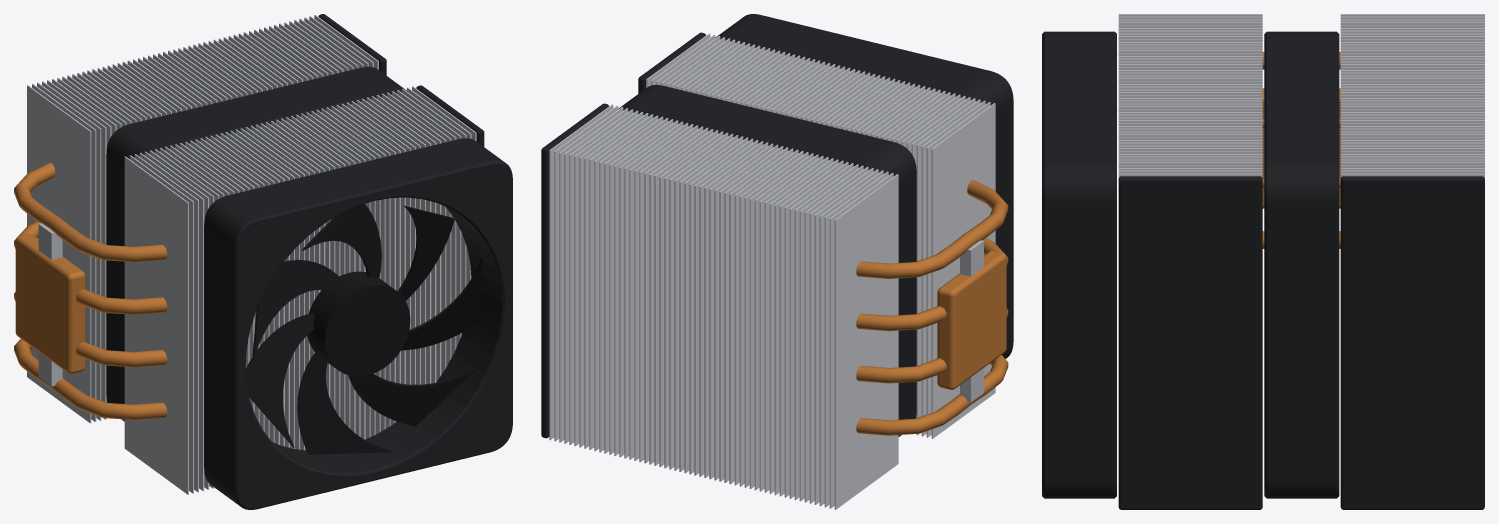
The model's file is cooler-dual-tower-v1.glb.
3 renders of one model, left to right at view 1: azimuth 30°, elevation 25°; view 2: azimuth 150°, elevation 25°; view 3: azimuth 270°, elevation 25°, orthographic. The views are drawn at different scales.
Visible parts, largest first — view 1: fan_1__mesh, fin_stack_1__mesh, fin_stack_0__mesh, fan_0__mesh, heatpipes__mesh, base__mesh, top_cover_1__mesh, top_cover_0__mesh; view 2: fin_stack_0__mesh, fin_stack_1__mesh, fan_0__mesh, fan_1__mesh, heatpipes__mesh, base__mesh, top_cover_0__mesh, top_cover_1__mesh; view 3: top_cover_0__mesh, top_cover_1__mesh, fan_0__mesh, fan_1__mesh, fin_stack_0__mesh, fin_stack_1__mesh, base__mesh.
Part boxes in pixels (x1=…): fan_1__mesh: x1=204, y1=138, x2=512, y2=509; fin_stack_1__mesh: x1=124, y1=86, x2=476, y2=494; fin_stack_0__mesh: x1=27, y1=15, x2=378, y2=423; fan_0__mesh: x1=106, y1=66, x2=406, y2=421; heatpipes__mesh: x1=14, y1=162, x2=167, y2=419; base__mesh: x1=15, y1=223, x2=85, y2=386; top_cover_1__mesh: x1=416, y1=85, x2=484, y2=146; top_cover_0__mesh: x1=318, y1=14, x2=386, y2=75; fin_stack_0__mesh: x1=549, y1=104, x2=898, y2=509; fin_stack_1__mesh: x1=646, y1=33, x2=995, y2=438; fan_0__mesh: x1=618, y1=85, x2=916, y2=436; fan_1__mesh: x1=715, y1=14, x2=1013, y2=358; heatpipes__mesh: x1=856, y1=180, x2=1008, y2=435; base__mesh: x1=937, y1=240, x2=1006, y2=402; top_cover_0__mesh: x1=541, y1=103, x2=608, y2=438; top_cover_1__mesh: x1=638, y1=32, x2=705, y2=93; top_cover_0__mesh: x1=1340, y1=176, x2=1484, y2=509; top_cover_1__mesh: x1=1118, y1=176, x2=1262, y2=509; fan_0__mesh: x1=1264, y1=31, x2=1339, y2=498; fan_1__mesh: x1=1042, y1=31, x2=1116, y2=498; fin_stack_0__mesh: x1=1340, y1=14, x2=1484, y2=178; fin_stack_1__mesh: x1=1118, y1=14, x2=1262, y2=178; base__mesh: x1=1262, y1=88, x2=1340, y2=208.
Bounding box in the file's own units: 0.159 × 0.122 × 0.1475.
